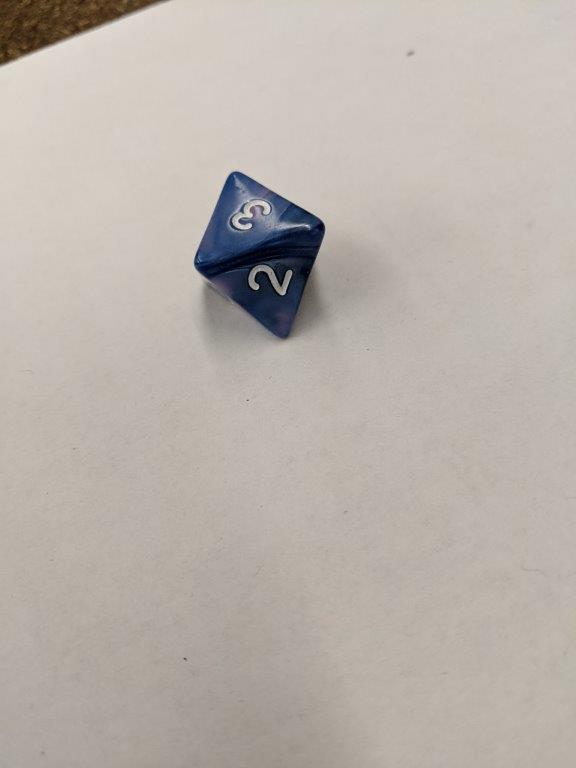d8-3: (192, 170, 329, 339)
